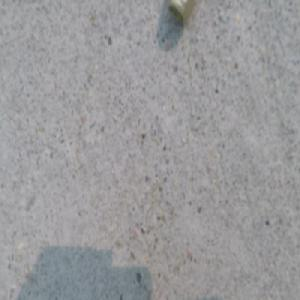BoltNutSet: (168, 1, 192, 24)
